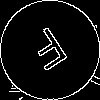F: (25, 25, 76, 80)
